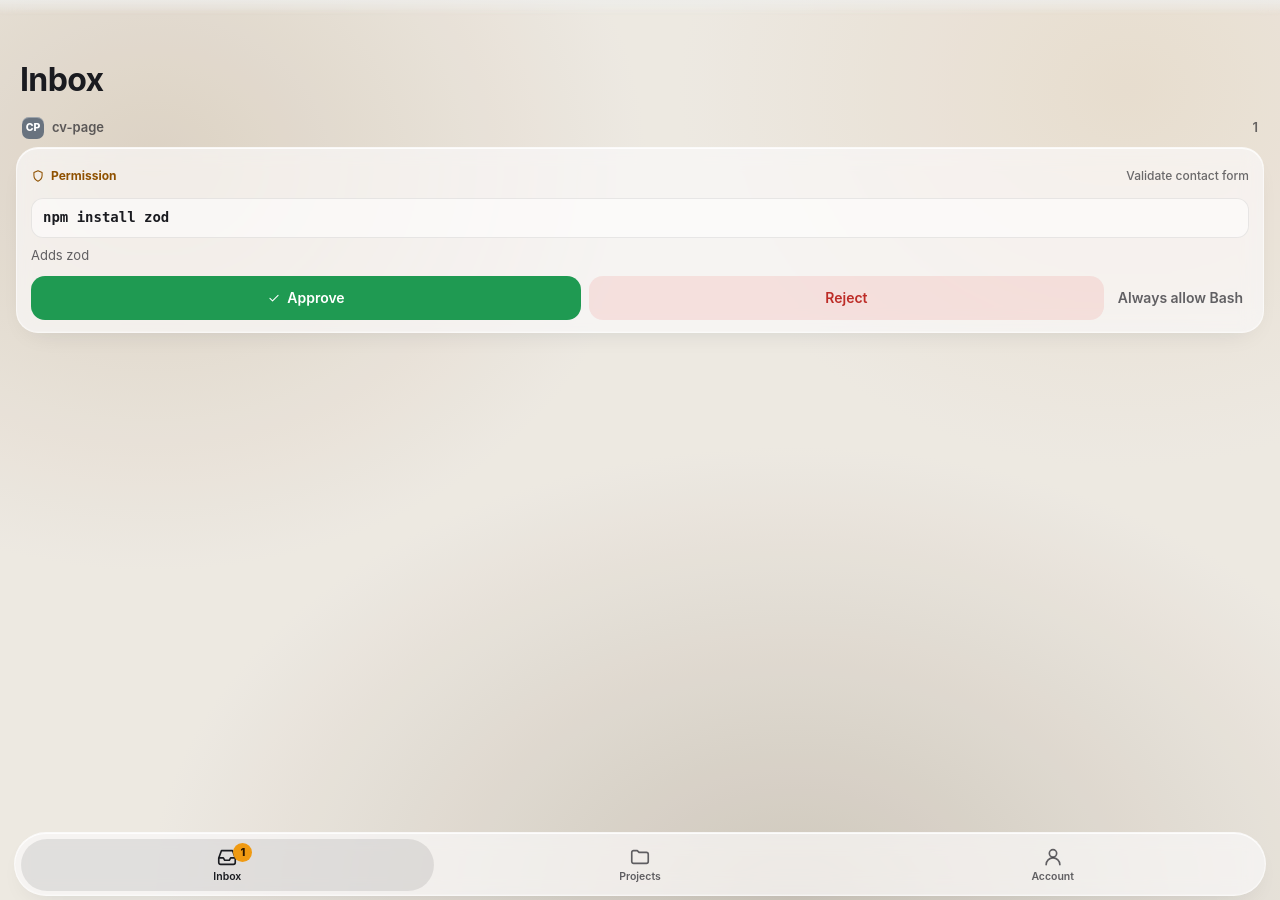
Test: Projects › lists project chips with attention, counts and running dots
Expected: the navigation bar named "Sections" is shown, 14,832 -> 1266,896
What coordinates should you click on to do the following:
click the tab "Projects"
I would click on:
 (640, 865)
Its box is 434,839 -> 846,891.
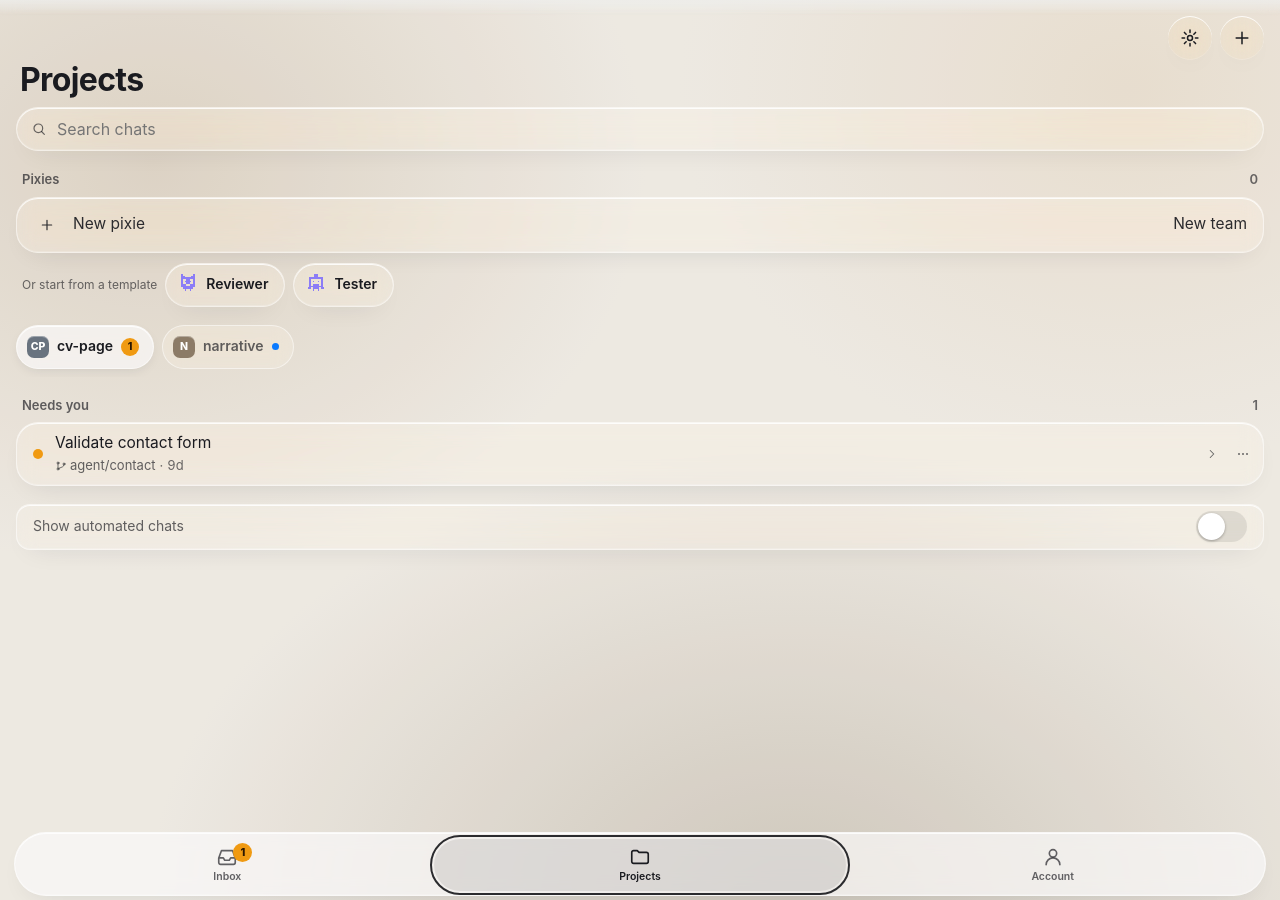
Expected: the text named "1 need you" is shown, 121,338 -> 139,356
Expected: the element named "running" is shown, 272,343 -> 278,350
What coordinates should you click on to do the following:
click the tab "N narrative"
I would click on:
 (228, 347)
Its box is 162,325 -> 294,369.
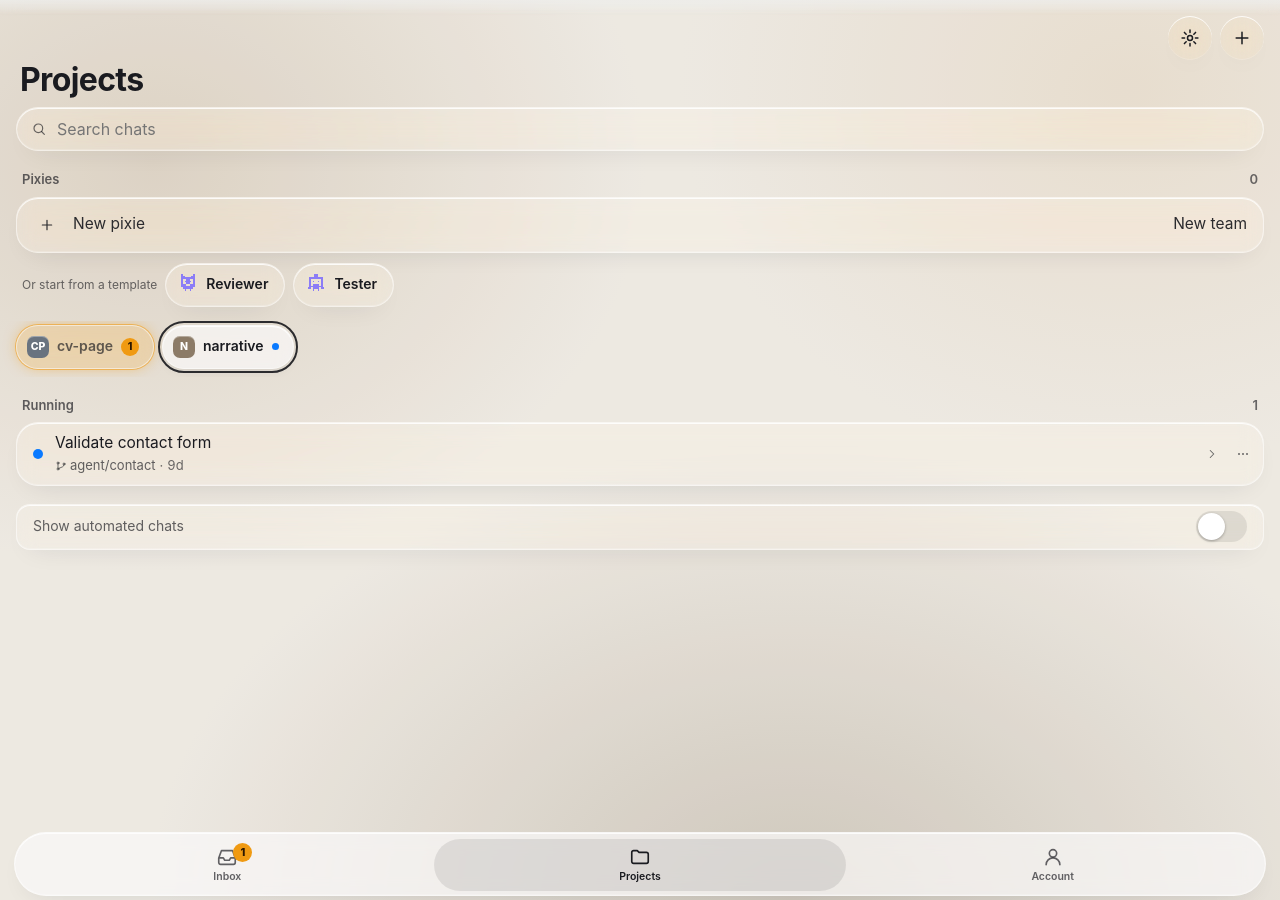
Expected: the button with aria-label "Validate contact form, Running" is shown, 17,423 -> 1223,485
